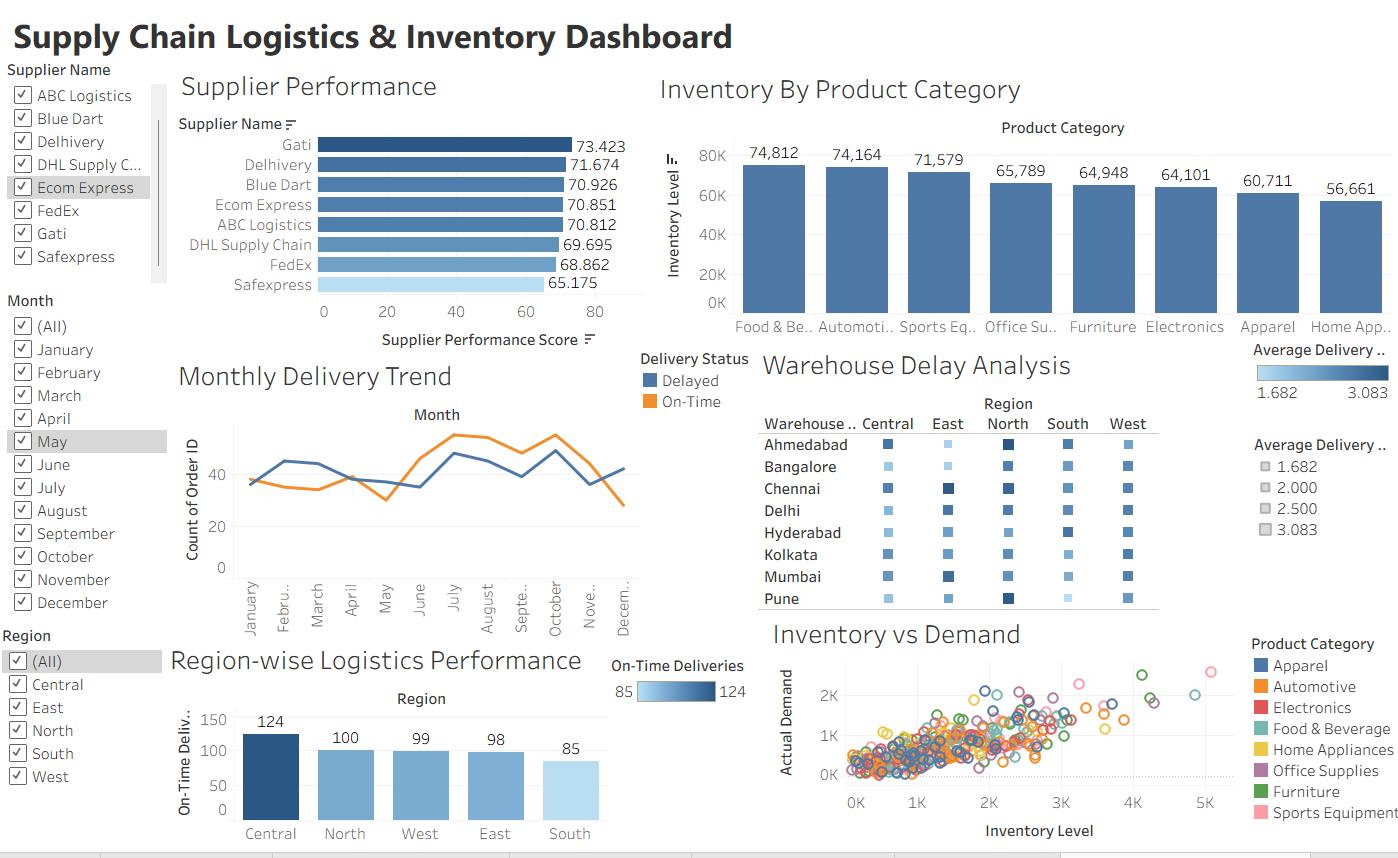

This screenshot's page, from the dashboard's own definition file:
{"tool":"tableau","page":{"name":"Supply Chain Logistics & Inventory Dashboard","canvas":[1400,900],"ordinal":0},"visuals":[{"type":"title","box":[8,8,1384,52]},{"type":"filter","title":"Supplier Performance","param":"[federated.1xhtyt317u16wa115kki71d7v6ro].[none:Supplier Name:nk]","box":[9,59,160,224]},{"type":"worksheet","title":"Supplier Performance","mark":"Bar","rows":["Supplier Name"],"cols":["Calculation_0914251468156941"],"box":[179,64,466,293]},{"type":"worksheet","title":"Inventory By Product Category","mark":"Automatic","rows":["Inventory Level"],"cols":["Product Category"],"box":[657,67,737,286]},{"type":"filter","title":"Monthly Delivery Trend","param":"[federated.1xhtyt317u16wa115kki71d7v6ro].[none:Month:nk]","box":[9,290,160,339]},{"type":"legend","title":"Warehouse Delay Analysis","param":"[federated.1xhtyt317u16wa115kki71d7v6ro].[usr:Calculation_0914251467362311:qk]","box":[1255,339,140,88]},{"type":"worksheet","title":"Warehouse Delay Analysis","mark":"Square","rows":["Warehouse Location"],"cols":["Region"],"box":[760,343,493,284]},{"type":"legend","title":"Monthly Delivery Trend","param":"[federated.1xhtyt317u16wa115kki71d7v6ro].[none:Delivery Status:nk]","box":[642,348,140,64]},{"type":"worksheet","title":"Monthly Delivery Trend","mark":"Line","rows":["Order ID"],"cols":["Month"],"box":[176,354,466,284]},{"type":"legend","title":"Warehouse Delay Analysis","param":"[federated.1xhtyt317u16wa115kki71d7v6ro].[usr:Calculation_0914251467362311:qk]","box":[1256,434,140,173]},{"type":"worksheet","title":"Inventory vs Demand","mark":"Automatic","rows":["Actual Demand"],"cols":["Inventory Level"],"box":[770,612,466,236]},{"type":"filter","title":"Warehouse Delay Analysis","param":"[federated.1xhtyt317u16wa115kki71d7v6ro].[none:Region:nk]","box":[4,625,160,232]},{"type":"worksheet","title":"Region-wise Logistics Performance","mark":"Automatic","rows":["Calculation_0914251466682371"],"cols":["Region"],"box":[168,638,442,207]},{"type":"legend","title":"Region-wise Logistics Performance","param":"[federated.1xhtyt317u16wa115kki71d7v6ro].[usr:Calculation_0914251466682371:qk]","box":[613,655,140,65]}]}

Visuals, with their boxes on the page's 1400x900 design canvas (x1, y1, x2, y2). These are canvas units, not pixel positions in the 1398x858 screenshot, which may show the page scaled, cropped or inside an application window:
title: <region>8, 8, 1392, 60</region>
"Supplier Performance" filter: <region>9, 59, 169, 283</region>
"Supplier Performance" worksheet (Bar marks): <region>179, 64, 645, 357</region>
"Inventory By Product Category" worksheet: <region>657, 67, 1394, 353</region>
"Monthly Delivery Trend" filter: <region>9, 290, 169, 629</region>
"Warehouse Delay Analysis" legend: <region>1255, 339, 1395, 427</region>
"Warehouse Delay Analysis" worksheet (Square marks): <region>760, 343, 1253, 627</region>
"Monthly Delivery Trend" legend: <region>642, 348, 782, 412</region>
"Monthly Delivery Trend" worksheet (Line marks): <region>176, 354, 642, 638</region>
"Warehouse Delay Analysis" legend: <region>1256, 434, 1396, 607</region>
"Inventory vs Demand" worksheet: <region>770, 612, 1236, 848</region>
"Warehouse Delay Analysis" filter: <region>4, 625, 164, 857</region>
"Region-wise Logistics Performance" worksheet: <region>168, 638, 610, 845</region>
"Region-wise Logistics Performance" legend: <region>613, 655, 753, 720</region>
